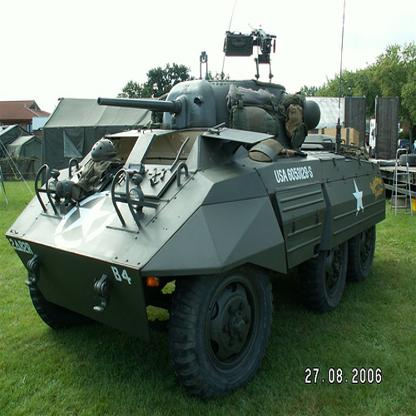Tank: (6, 72, 399, 396)
